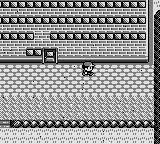main: (82, 62, 95, 75)
no-caminable: (1, 0, 150, 63)
puerta: (44, 50, 56, 63)
salto: (14, 120, 154, 128)
